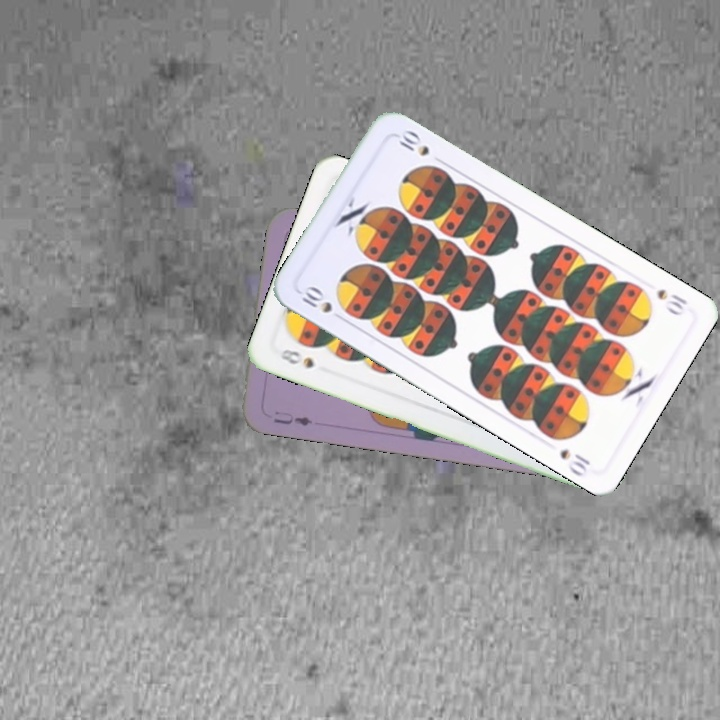EU: (269, 407, 315, 429)
S10: (295, 281, 348, 324), (653, 285, 690, 319)
S8: (276, 344, 317, 371)
